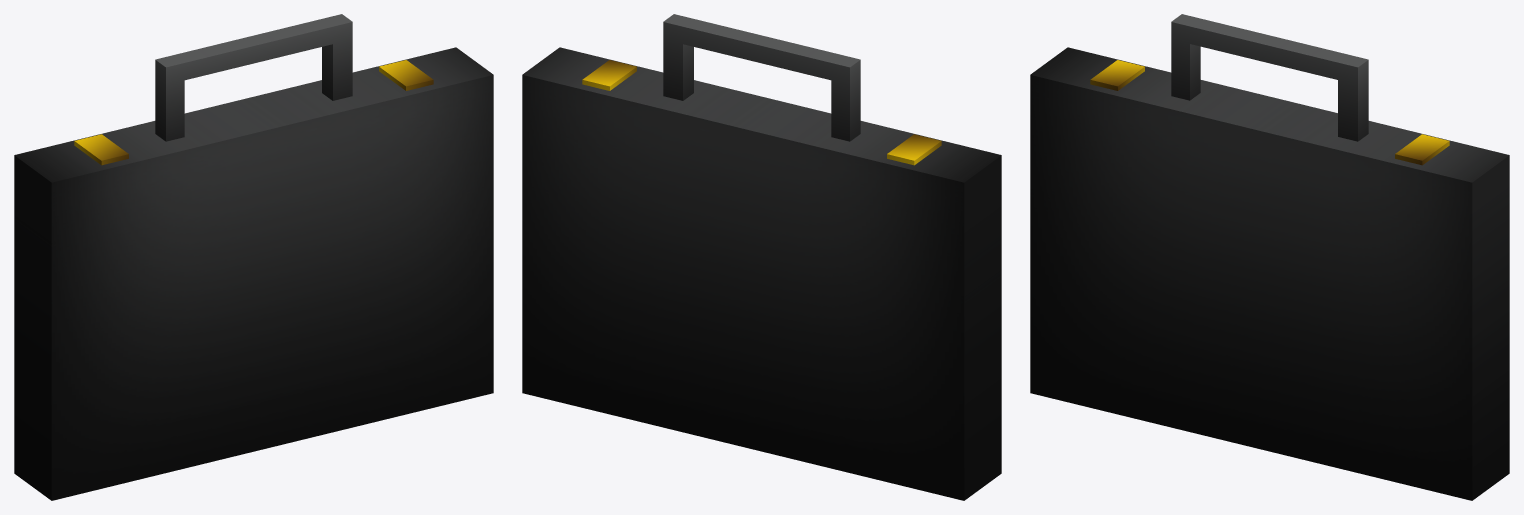
Rendered from Briefcase.fbx.
3 renders of one model, left to right at view 1: azimuth 30°, elevation 25°; view 2: azimuth 150°, elevation 25°; view 3: azimuth 330°, elevation 25°, orthographic.
Visible parts, largest first — view 1: Briefcase; view 2: Briefcase; view 3: Briefcase.
Part boxes in pixels (x1,y1,x2,y2): Briefcase: (14,14,493,500); Briefcase: (522,14,1001,500); Briefcase: (1030,14,1509,500).
Bounding box in the file's own units: 38.06 × 32.3 × 5.61.
